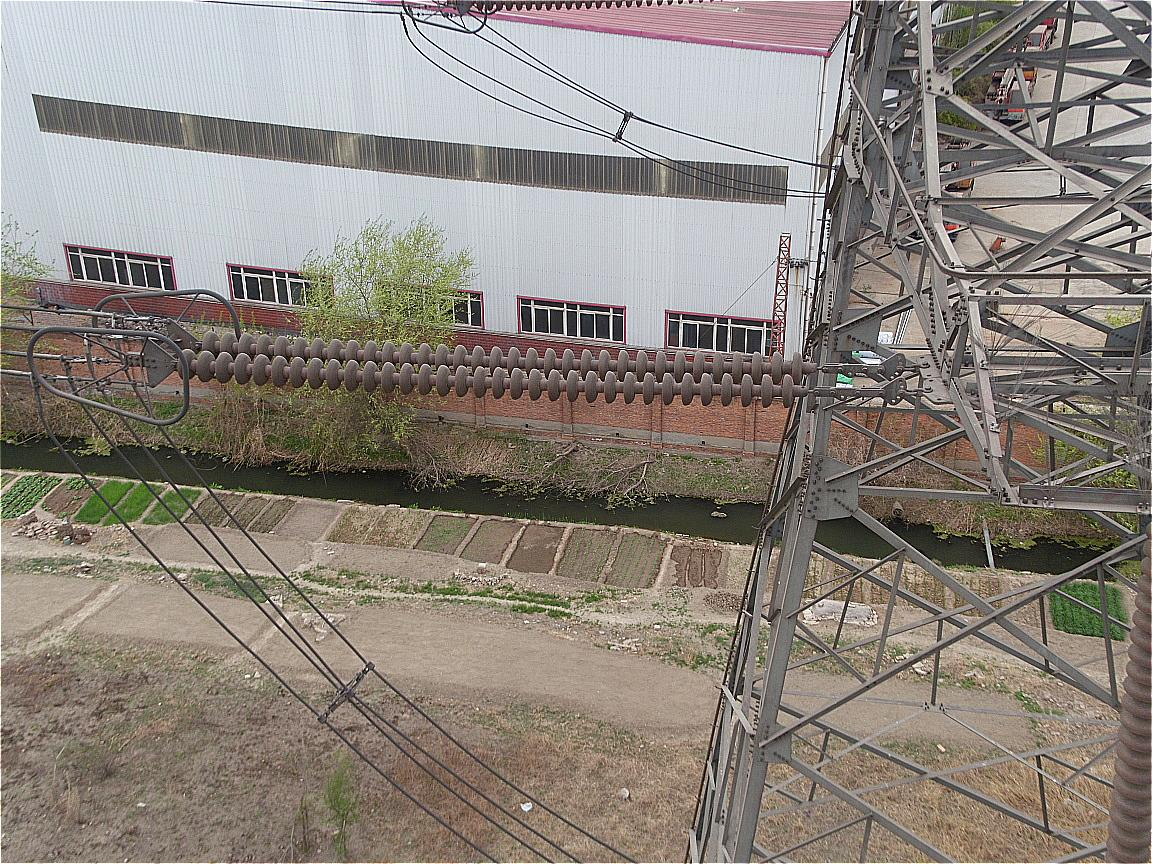insultor1: (152, 309, 847, 436)
